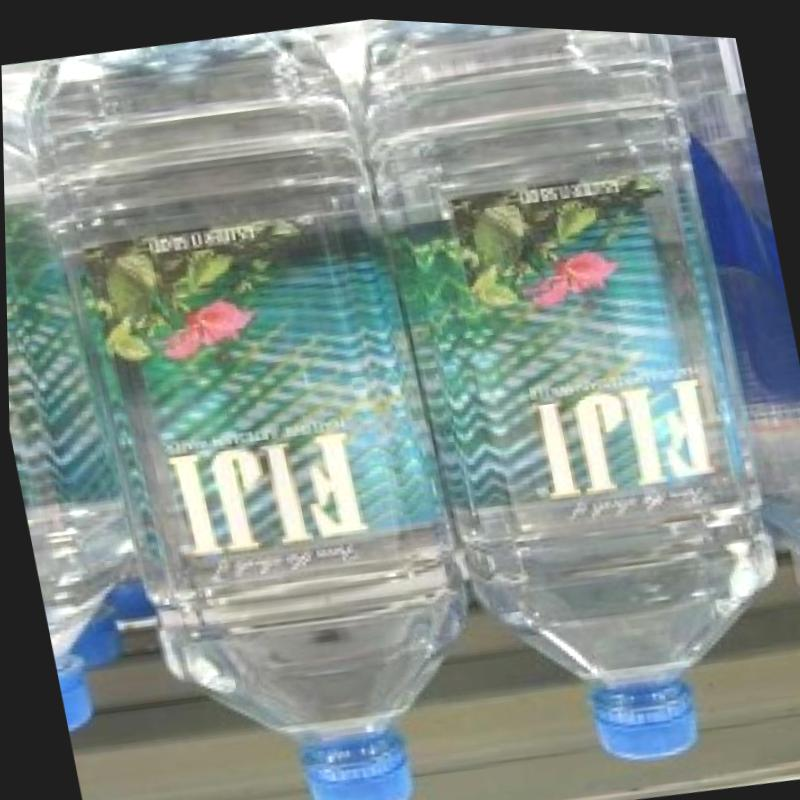botella: (1, 3, 493, 800), (338, 14, 800, 787), (1, 58, 173, 736), (637, 26, 800, 564)
